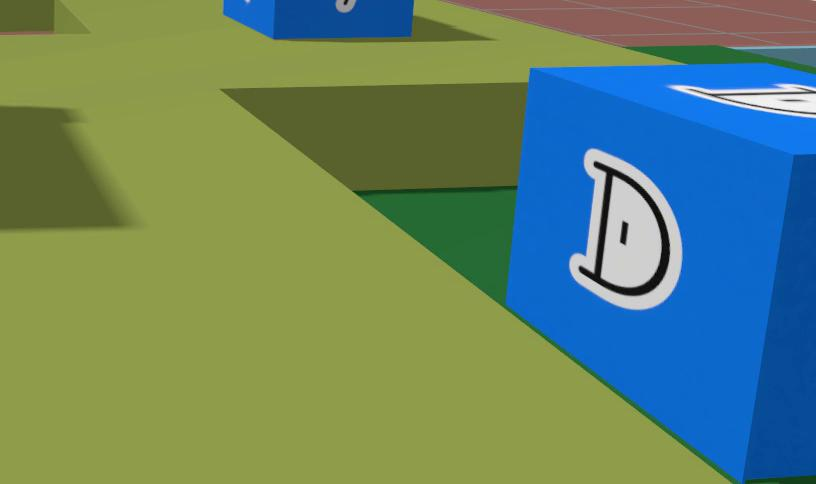KFS_REAL: (506, 64, 815, 478), (569, 150, 682, 308), (222, 0, 414, 38), (670, 82, 815, 116), (333, 0, 356, 12), (246, 0, 248, 2)
